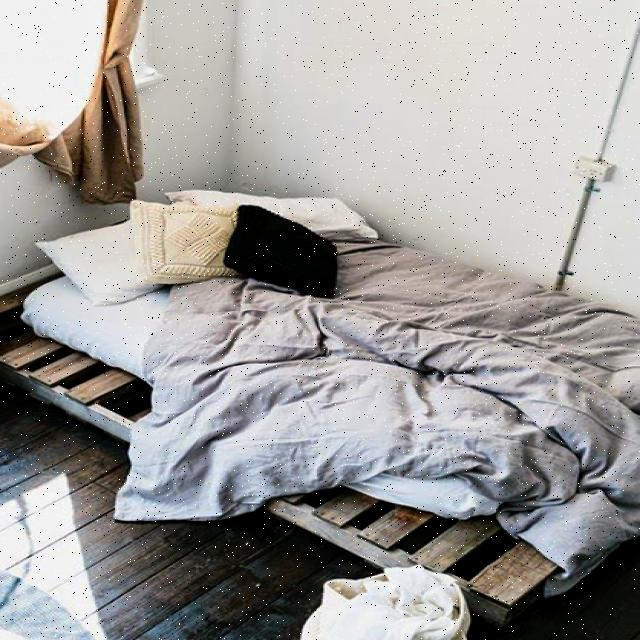bed: (24, 175, 640, 578)
